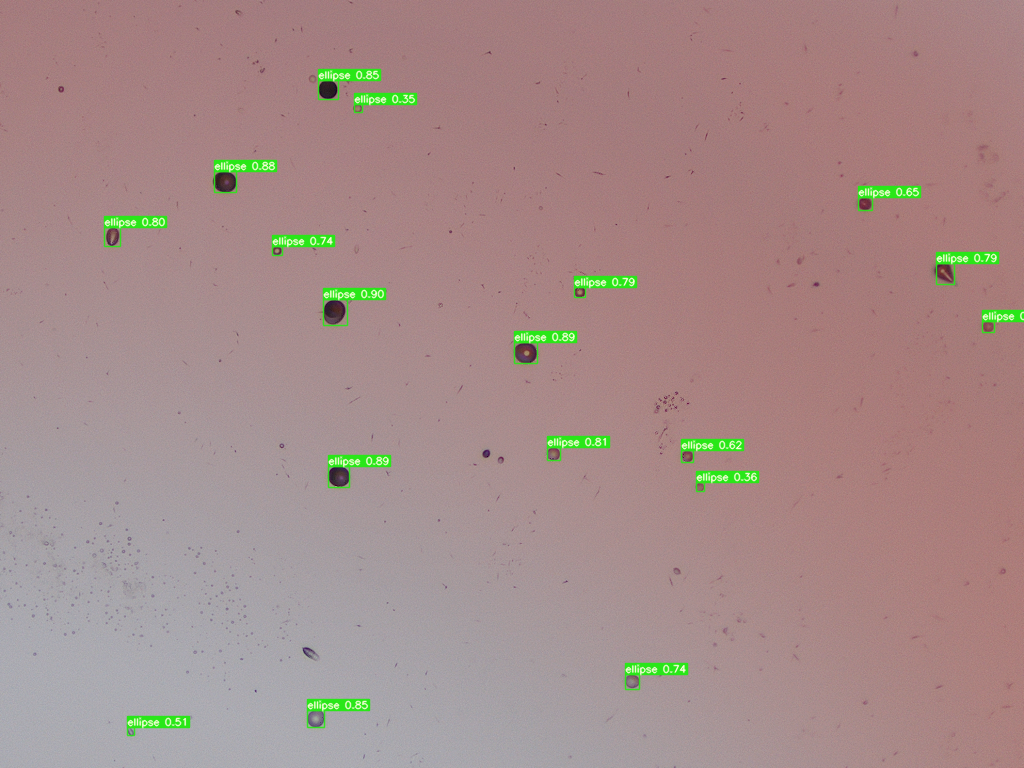circle: (215, 171, 236, 192), (324, 298, 345, 319), (329, 466, 350, 487), (318, 79, 337, 98), (306, 710, 323, 727), (547, 448, 559, 460), (859, 197, 871, 209), (982, 320, 994, 332), (682, 450, 692, 460), (272, 246, 281, 255), (575, 287, 584, 296), (353, 103, 361, 112), (697, 484, 704, 491), (309, 75, 315, 81), (58, 86, 64, 91)
ellipse: (513, 342, 537, 365), (936, 263, 955, 283), (624, 675, 640, 689), (302, 647, 319, 660), (107, 228, 118, 246), (483, 450, 490, 457), (497, 457, 504, 464)
